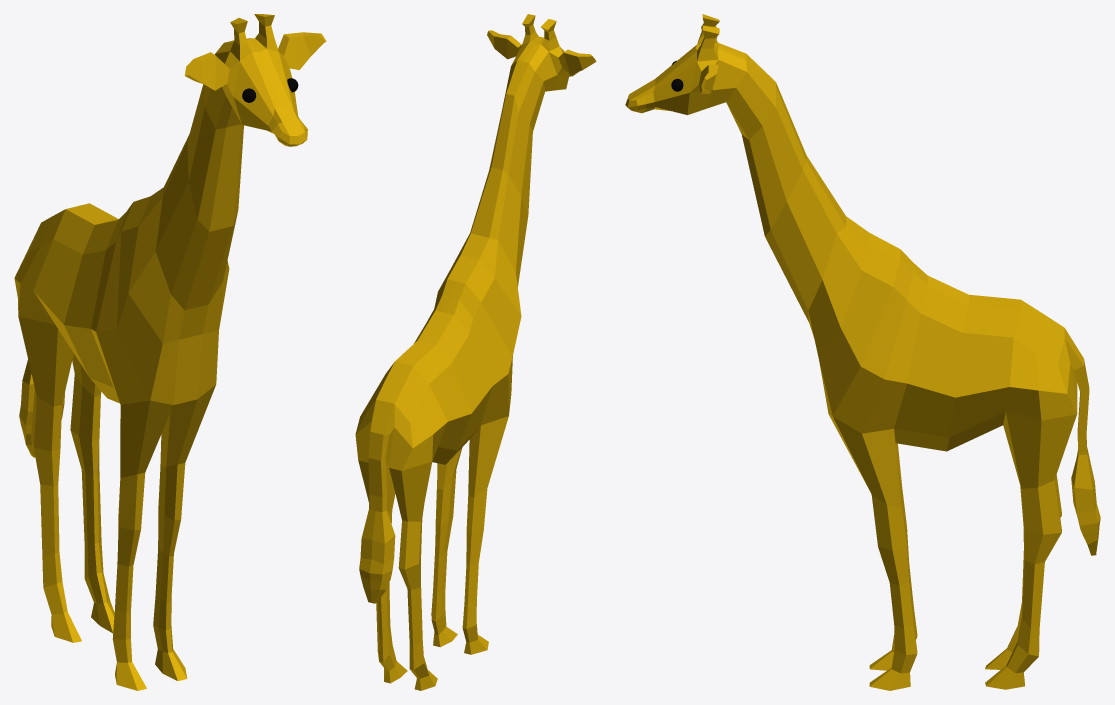
The model's file is Stringbean_Sam_Neutral_Android.glb.
The picture shows the model from 3 angles, left to right: view 1: azimuth 30°, elevation 25°; view 2: azimuth 150°, elevation 25°; view 3: azimuth 270°, elevation 25°; orthographic projection. The views are drawn at different scales.
Visible parts, largest first — view 1: Plane.001; view 2: Plane.001; view 3: Plane.001.
Part boxes in pixels (<box>): Plane.001: <box>14,14,326,690</box>; Plane.001: <box>355,14,596,690</box>; Plane.001: <box>625,14,1100,690</box>.
Bounding box in the file's own units: 0.9536 × 4.72 × 3.11.
